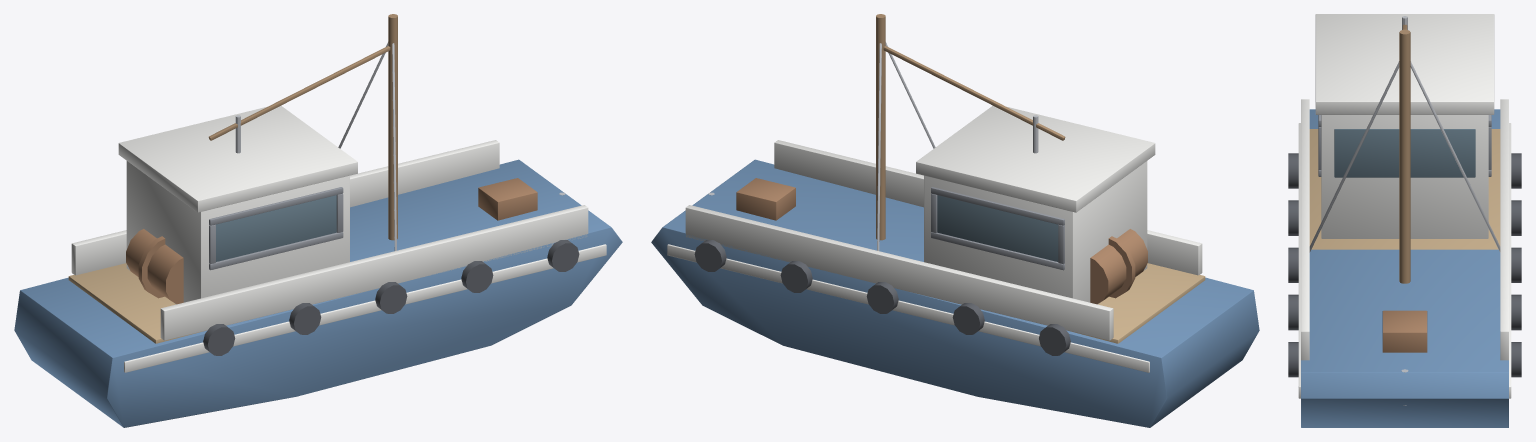
File: th45_fischerboot.glb
3 renders of one model, left to right at view 1: azimuth 30°, elevation 25°; view 2: azimuth 150°, elevation 25°; view 3: azimuth 270°, elevation 25°, orthographic. The views are drawn at different scales.
Visible parts, largest first — view 1: Rumpf, Cube.016, Cube.001, Cube.004, Cube.002, Cube.005, Cube.003, Cube, Cylinder.003, Cylinder.002, Cube.020, Cube.017 (+9 smaller); view 2: Rumpf, Cube.016, Cube.002, Cube.004, Cube.001, Cube.010, Cube.003, Cube, Cylinder.003, Cylinder.002, Cube.020, Cube.017 (+9 smaller); view 3: Rumpf, Cube.016, Cube.004, Cube.015, Cube, Cylinder.002, Cube.001, Cube.002, Cube.020, Cube.003, Cube.018, Cube.019 (+10 smaller).
Part boxes in pixels (box(x1,y1,x2,y2)): Rumpf: box(14, 159, 622, 427); Cube.016: box(118, 106, 357, 212); Cube.001: box(160, 205, 588, 340); Cube.004: box(126, 161, 349, 304); Cube.002: box(71, 140, 499, 275); Cube.005: box(216, 195, 336, 261); Cube.003: box(124, 244, 606, 372); Cube: box(68, 263, 205, 343); Cylinder.003: box(126, 229, 183, 304); Cylinder.002: box(388, 14, 397, 240); Cube.020: box(478, 178, 537, 220); Cube.017: box(208, 46, 390, 140); Rumpf: box(651, 159, 1259, 427); Cube.016: box(916, 106, 1155, 212); Cube.002: box(685, 205, 1113, 340); Cube.004: box(924, 161, 1147, 303); Cube.001: box(774, 140, 1202, 275); Cube.010: box(937, 195, 1058, 261); Cube.003: box(667, 244, 1149, 372); Cube: box(1068, 263, 1205, 343); Cylinder.003: box(1090, 229, 1147, 304); Cylinder.002: box(876, 14, 885, 240); Cube.020: box(736, 178, 795, 220); Cube.017: box(883, 46, 1065, 140); Rumpf: box(1301, 109, 1508, 427); Cube.016: box(1315, 14, 1494, 114); Cube.004: box(1321, 115, 1488, 238); Cube.015: box(1334, 129, 1475, 177); Cube: box(1309, 129, 1500, 249); Cylinder.002: box(1399, 29, 1410, 283); Cube.001: box(1301, 99, 1309, 360); Cube.002: box(1500, 99, 1508, 360); Cube.020: box(1382, 310, 1427, 352); Cube.003: box(1298, 123, 1511, 398); Cube.018: box(1309, 61, 1399, 252); Cube.019: box(1410, 61, 1500, 252).
Bounding box in the file's own units: 9 × 5.2 × 3.14.
